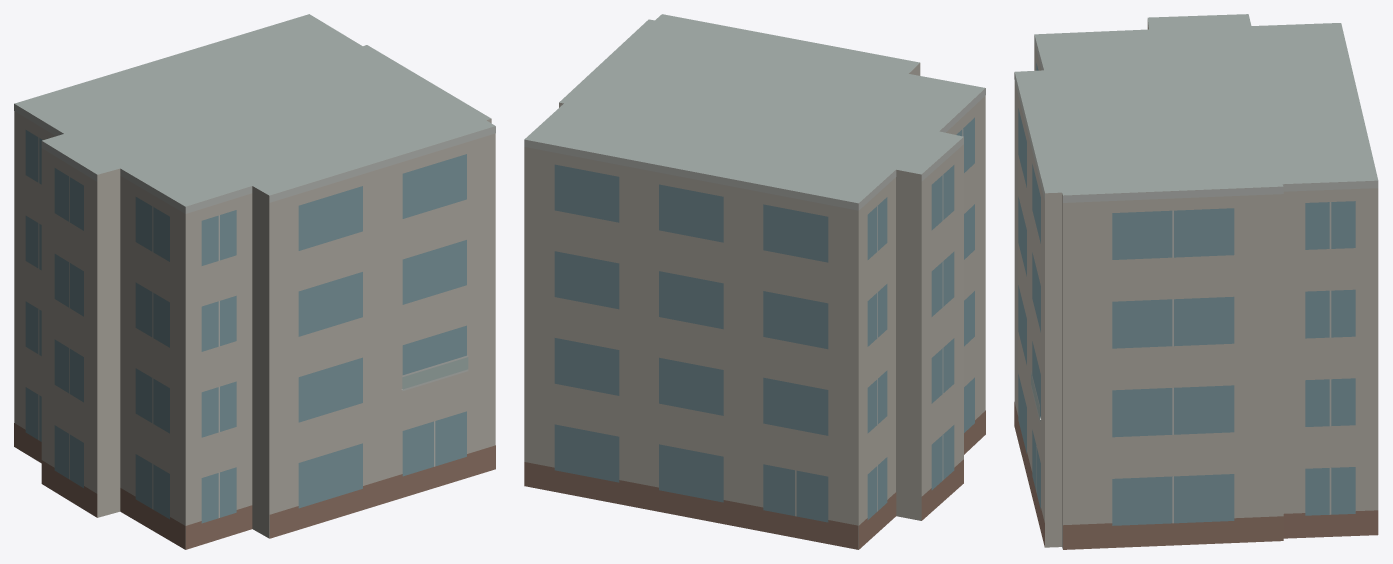
File: survey-upis-32655338.glb
3 renders of one model, left to right at view 1: azimuth 30°, elevation 25°; view 2: azimuth 150°, elevation 25°; view 3: azimuth 270°, elevation 25°, orthographic. The views are drawn at different scales.
Parts seen in each view (by area): view 1: survey-upis-32655338.tmp; view 2: survey-upis-32655338.tmp; view 3: survey-upis-32655338.tmp.
Part boxes in pixels (box(x1,y1,x2,y2)): survey-upis-32655338.tmp: box(14, 14, 495, 549); survey-upis-32655338.tmp: box(524, 14, 985, 549); survey-upis-32655338.tmp: box(1014, 14, 1378, 549).
Bounding box in the file's own units: 12.64 × 11.5 × 10.71.
